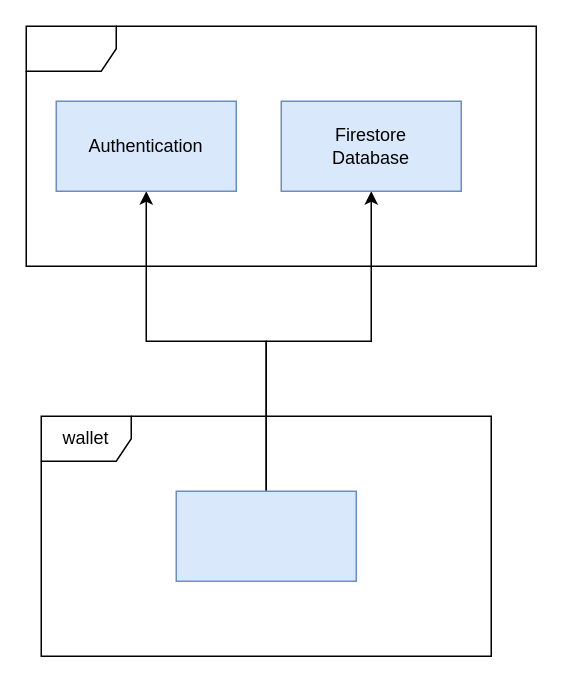
Some shapes in this 563 by 683 pixel diagram are drawn without their labels. Each missing label, with the box of its shape:
Firebase: (25, 25, 536, 266)
wallet (SPA): (175, 490, 356, 581)
